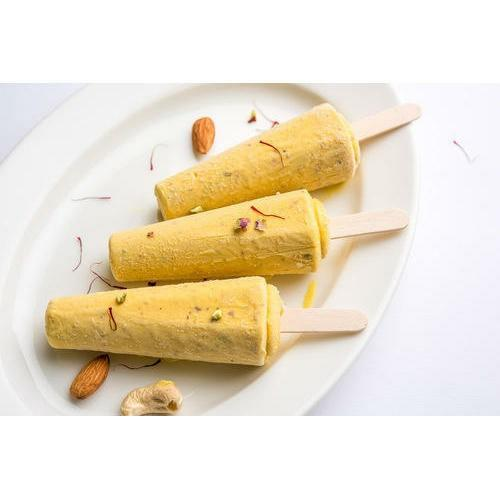Kulfi: (156, 103, 361, 216), (47, 276, 278, 365), (108, 188, 329, 281)
